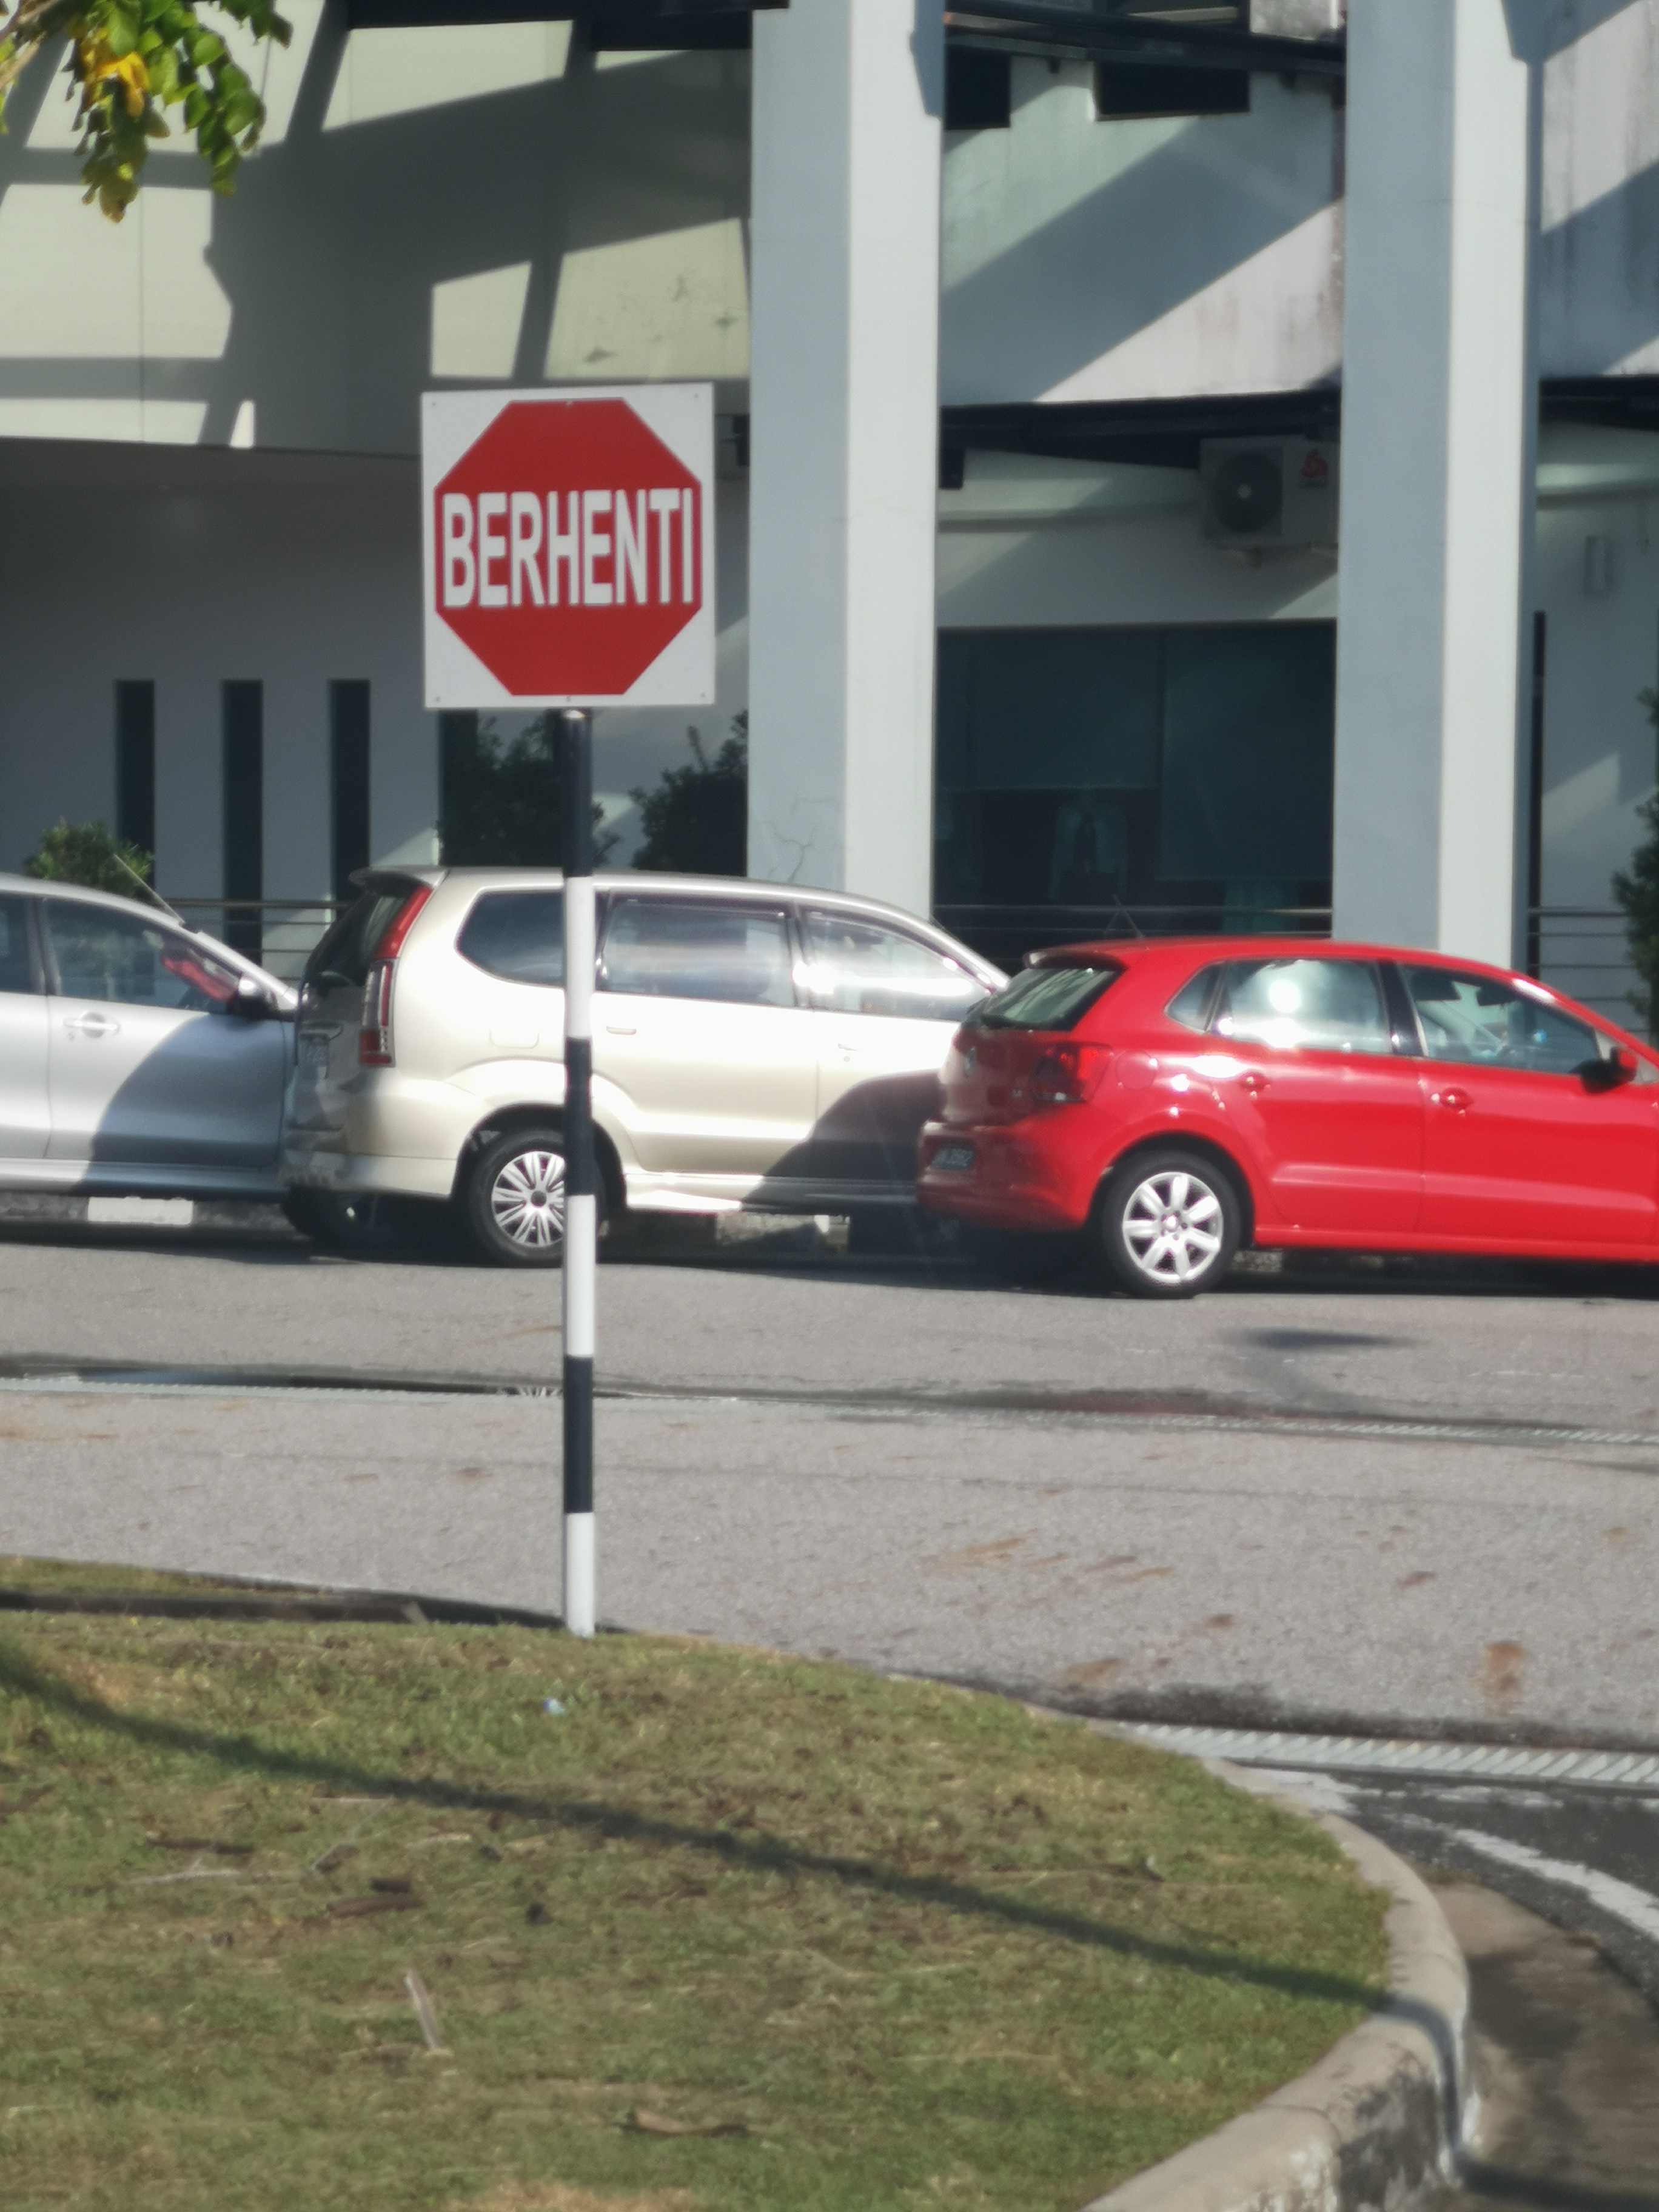stop: (404, 383, 721, 725)
